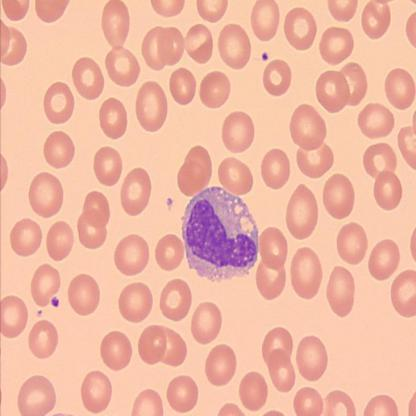Monocyte: (179, 184, 260, 284)
